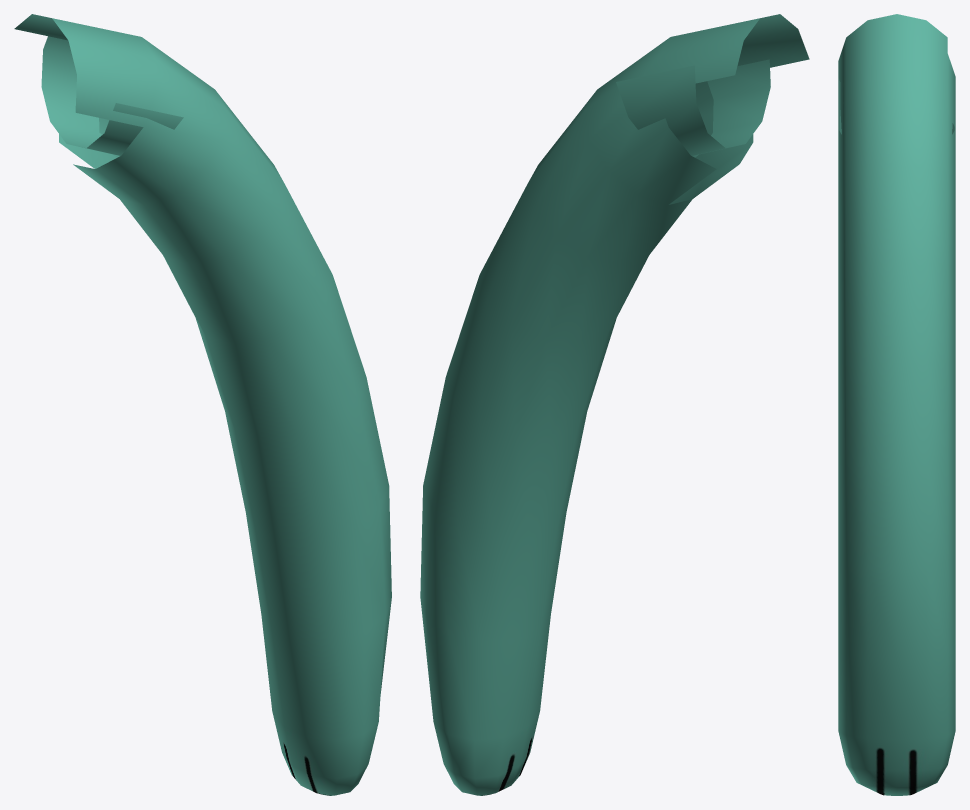
File: bimo_bi.obj
The picture shows the model from 3 angles, left to right: view 1: azimuth 30°, elevation 25°; view 2: azimuth 150°, elevation 25°; view 3: azimuth 270°, elevation 25°; orthographic projection. The views are drawn at different scales.
Visible parts, largest first — view 1: brazoizquierdo; view 2: brazoizquierdo; view 3: brazoizquierdo.
Boxes of the visible parts, left/top/right/bottom form: brazoizquierdo: left=14, top=14, right=391, bottom=795; brazoizquierdo: left=420, top=14, right=809, bottom=795; brazoizquierdo: left=838, top=14, right=955, bottom=795.
Bounding box in the file's own units: 0.6498 × 1.52 × 0.24.
